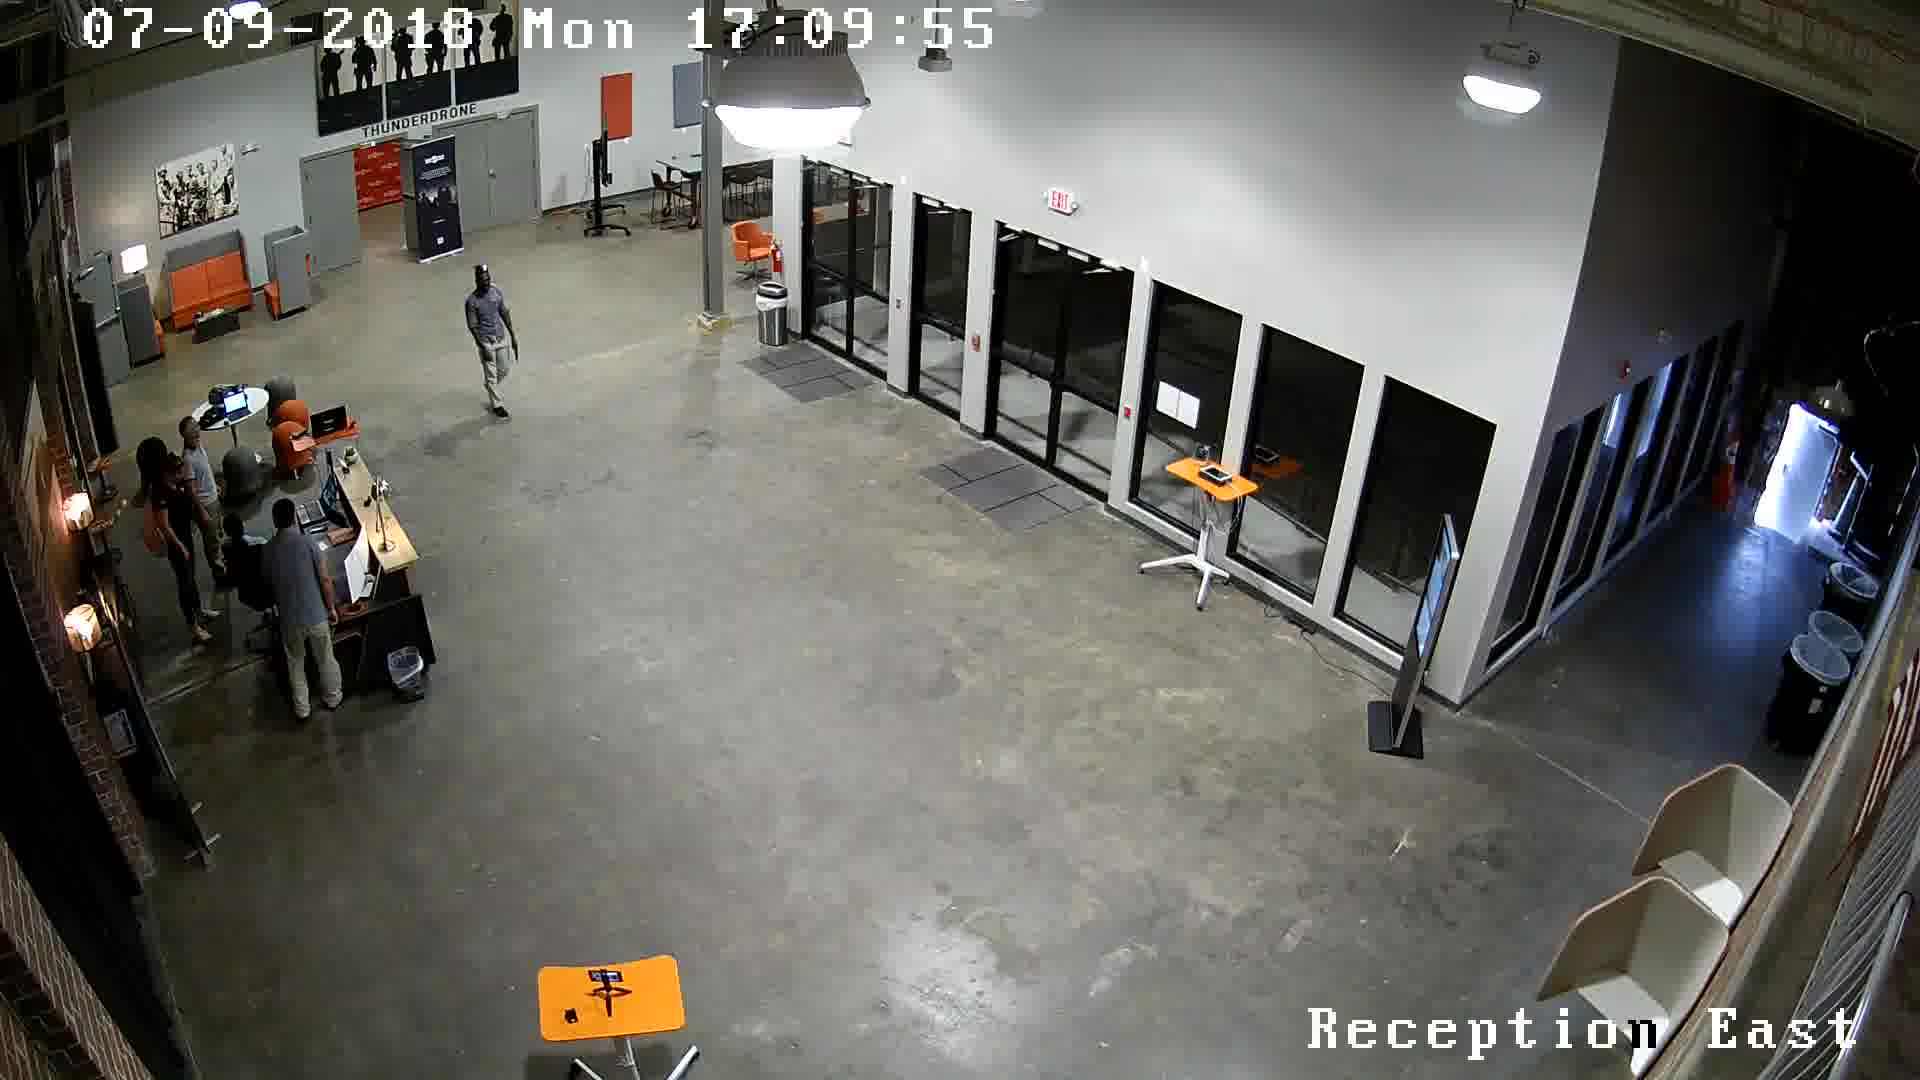pistol: (502, 330, 534, 376)
